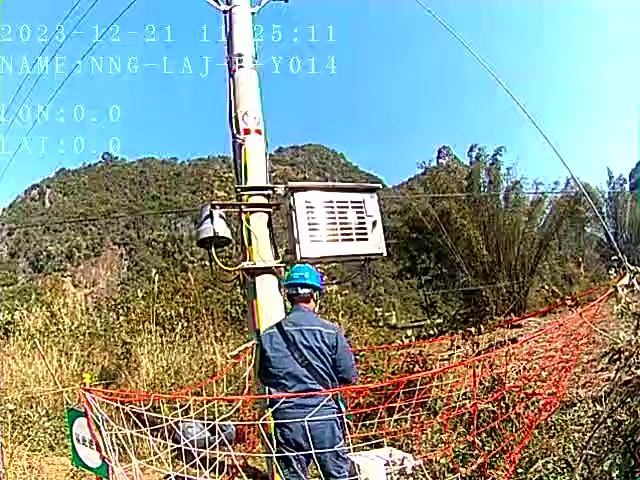halt: (286, 266, 328, 312)
